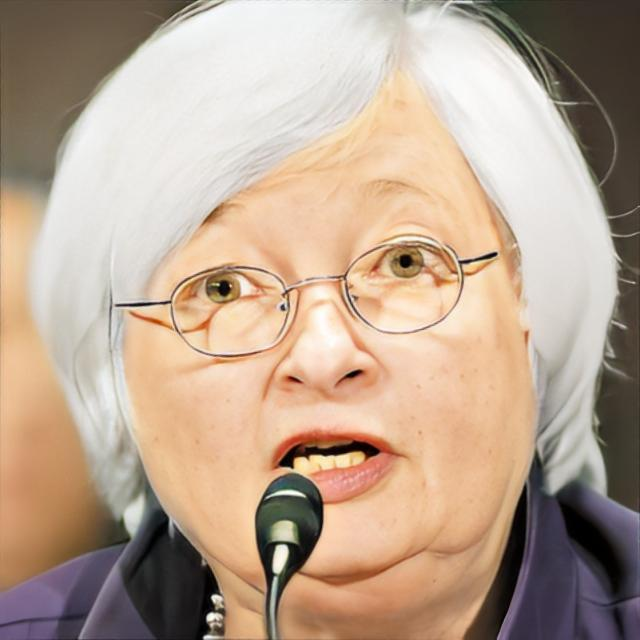surprise: (120, 33, 536, 626)
